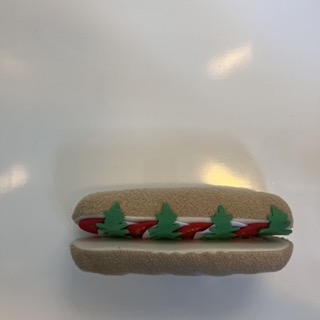sandwich: (71, 188, 295, 276)
